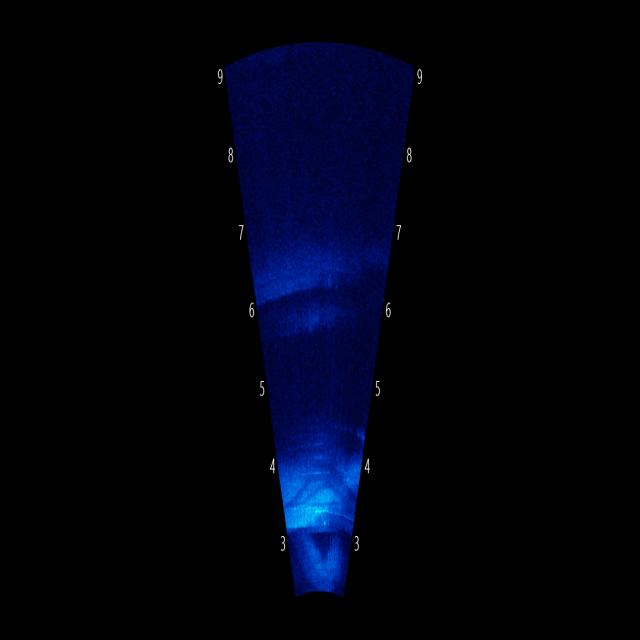triangle: (290, 439, 354, 528)
